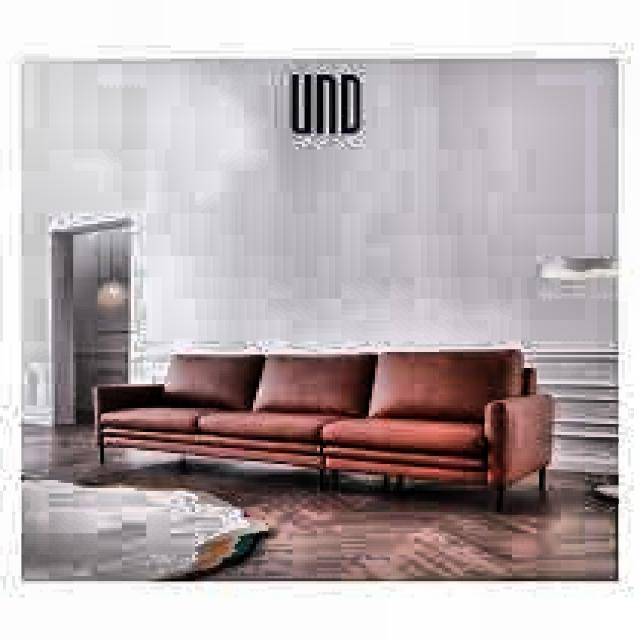sofa: (101, 349, 582, 523)
